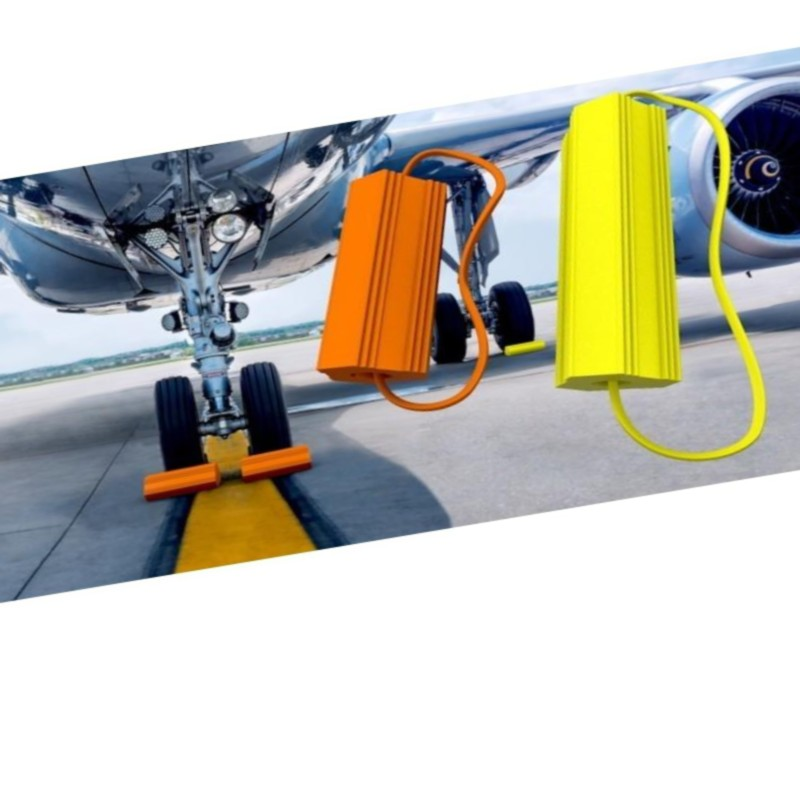chock: (510, 86, 714, 410), (281, 161, 481, 401), (136, 458, 227, 504), (235, 443, 317, 482), (501, 337, 549, 358)
wheel: (148, 373, 206, 472), (236, 359, 294, 456), (483, 276, 536, 352), (420, 288, 471, 365)
